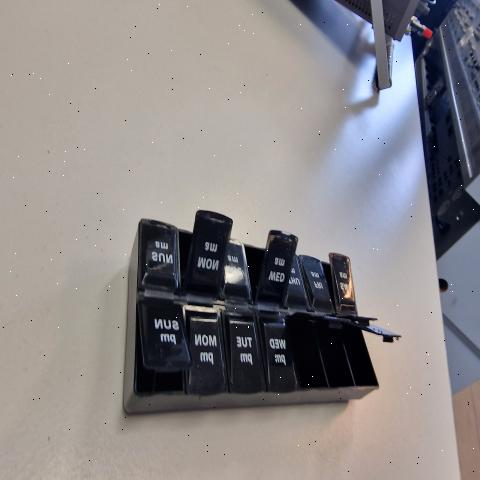Open: (286, 316, 354, 390), (136, 306, 184, 392), (323, 321, 361, 386), (345, 329, 383, 387), (246, 232, 271, 303), (178, 211, 198, 294), (321, 256, 336, 311)
